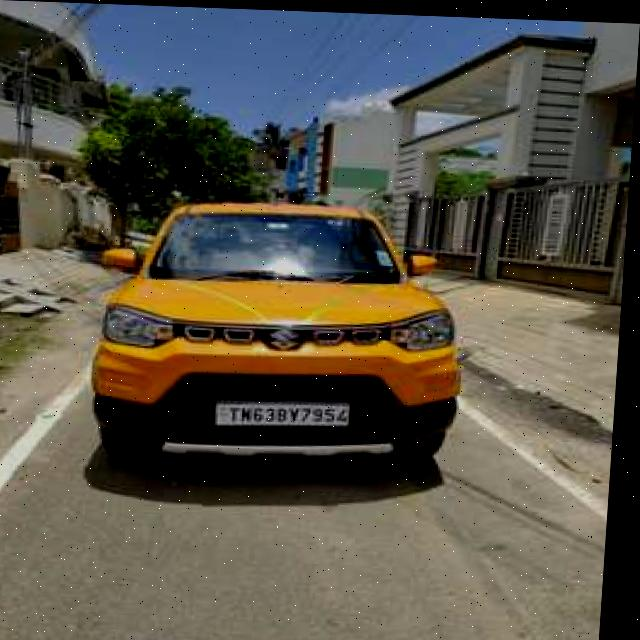plate: (222, 398, 355, 425)
